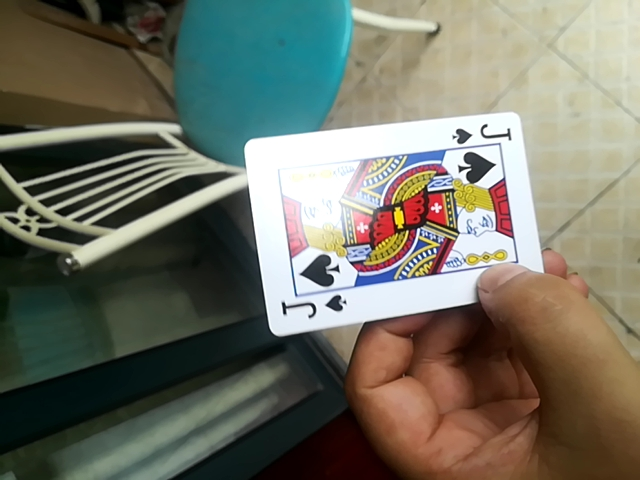ht j: (246, 115, 541, 343)
